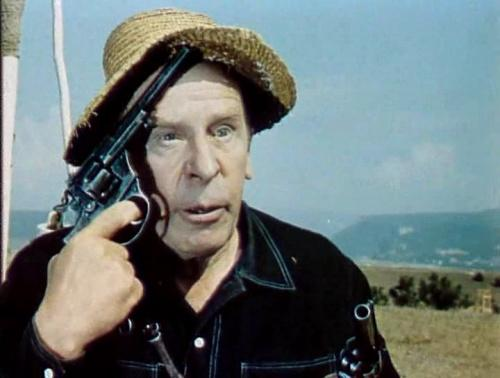Gun: (52, 41, 200, 251), (336, 300, 384, 378)
